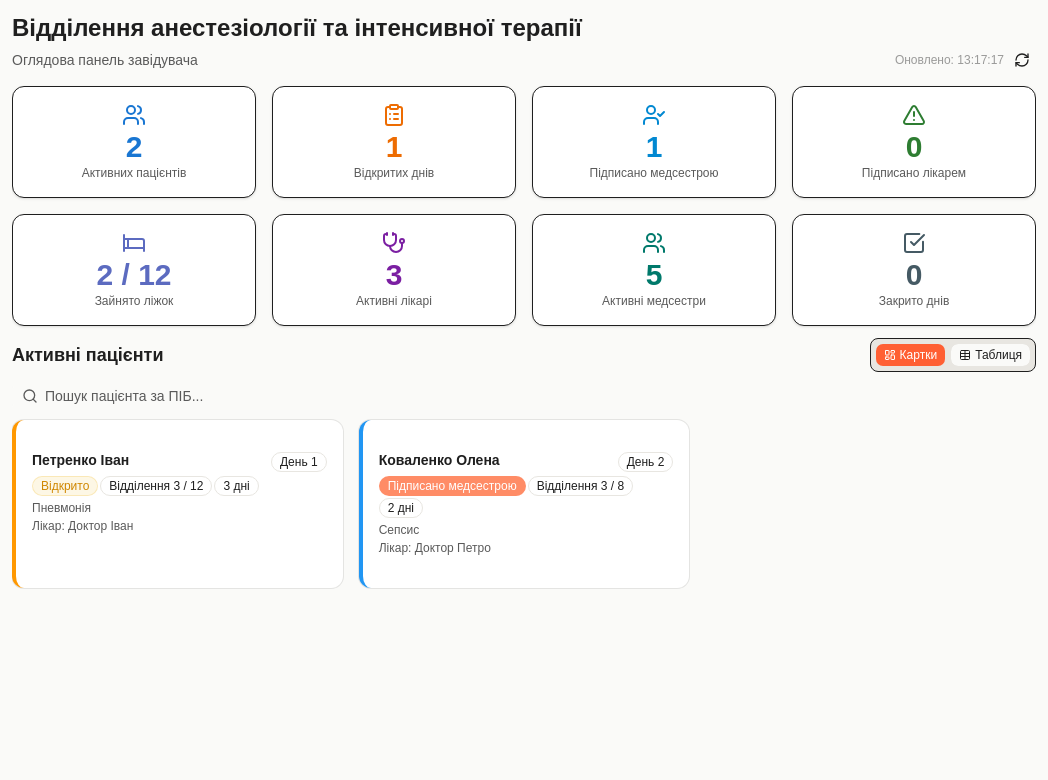
DepartmentDashboardPage › clearing search restores all patients
Expected: the text "Петренко Іван" is shown, [32,452,129,470]
Type "NonExistent" into the field with placeholder "Пошук пацієнта за ПІБ..." at (524, 396), box [12,380,1036,412]
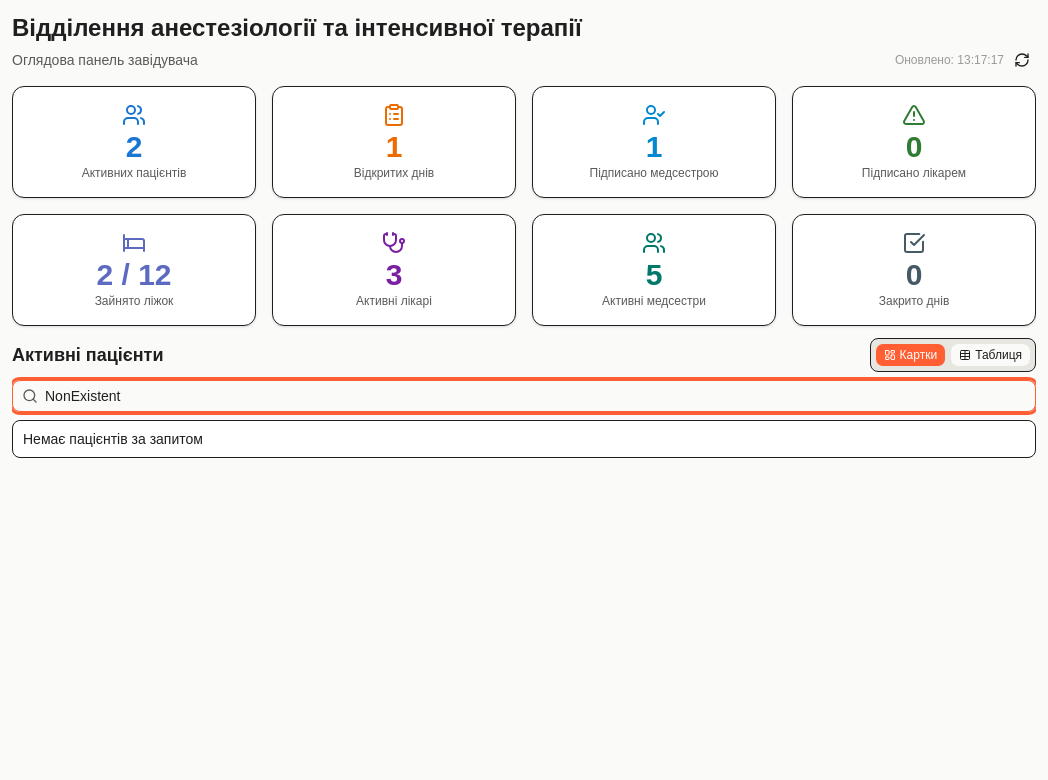
Now the text "Немає пацієнтів за запитом" is shown, box [12,420,1036,458]
Clear the field with placeholder "Пошук пацієнта за ПІБ..." at (524, 396), box [12,380,1036,412]
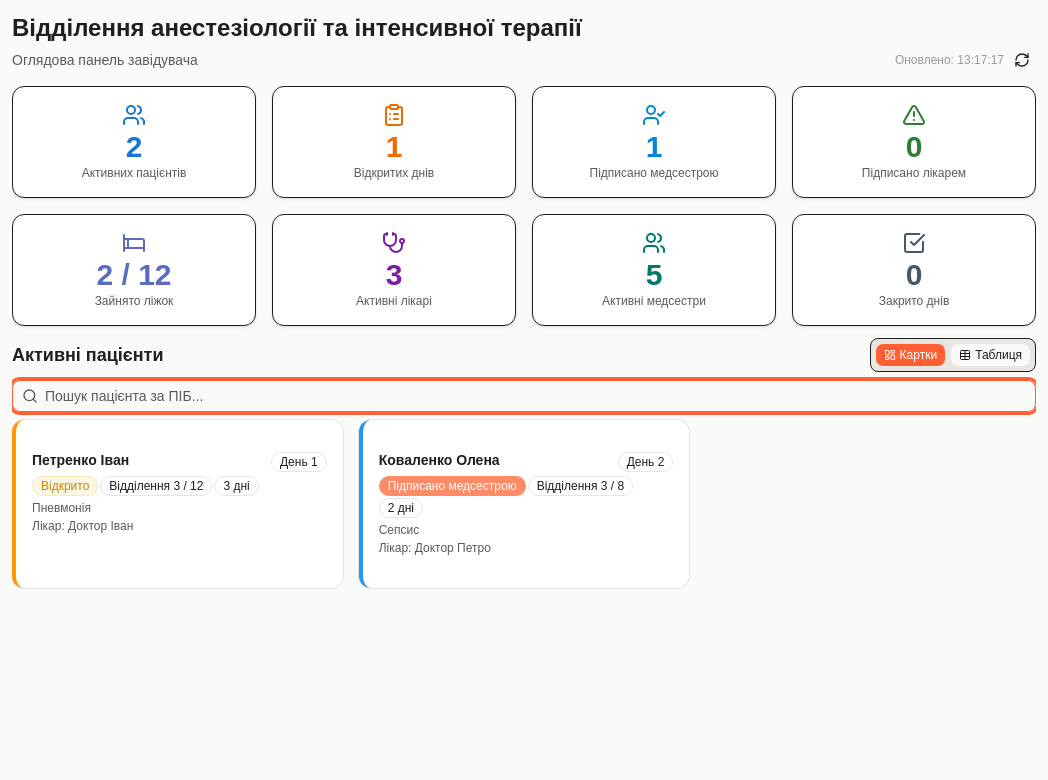
Now the text "Петренко Іван" is shown, box [32,452,129,470]
Now the text "Коваленко Олена" is shown, box [379,452,500,470]
